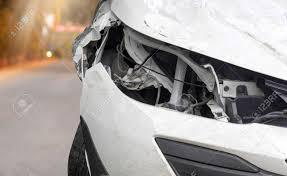Headlight-Damage: (84, 8, 286, 135)
